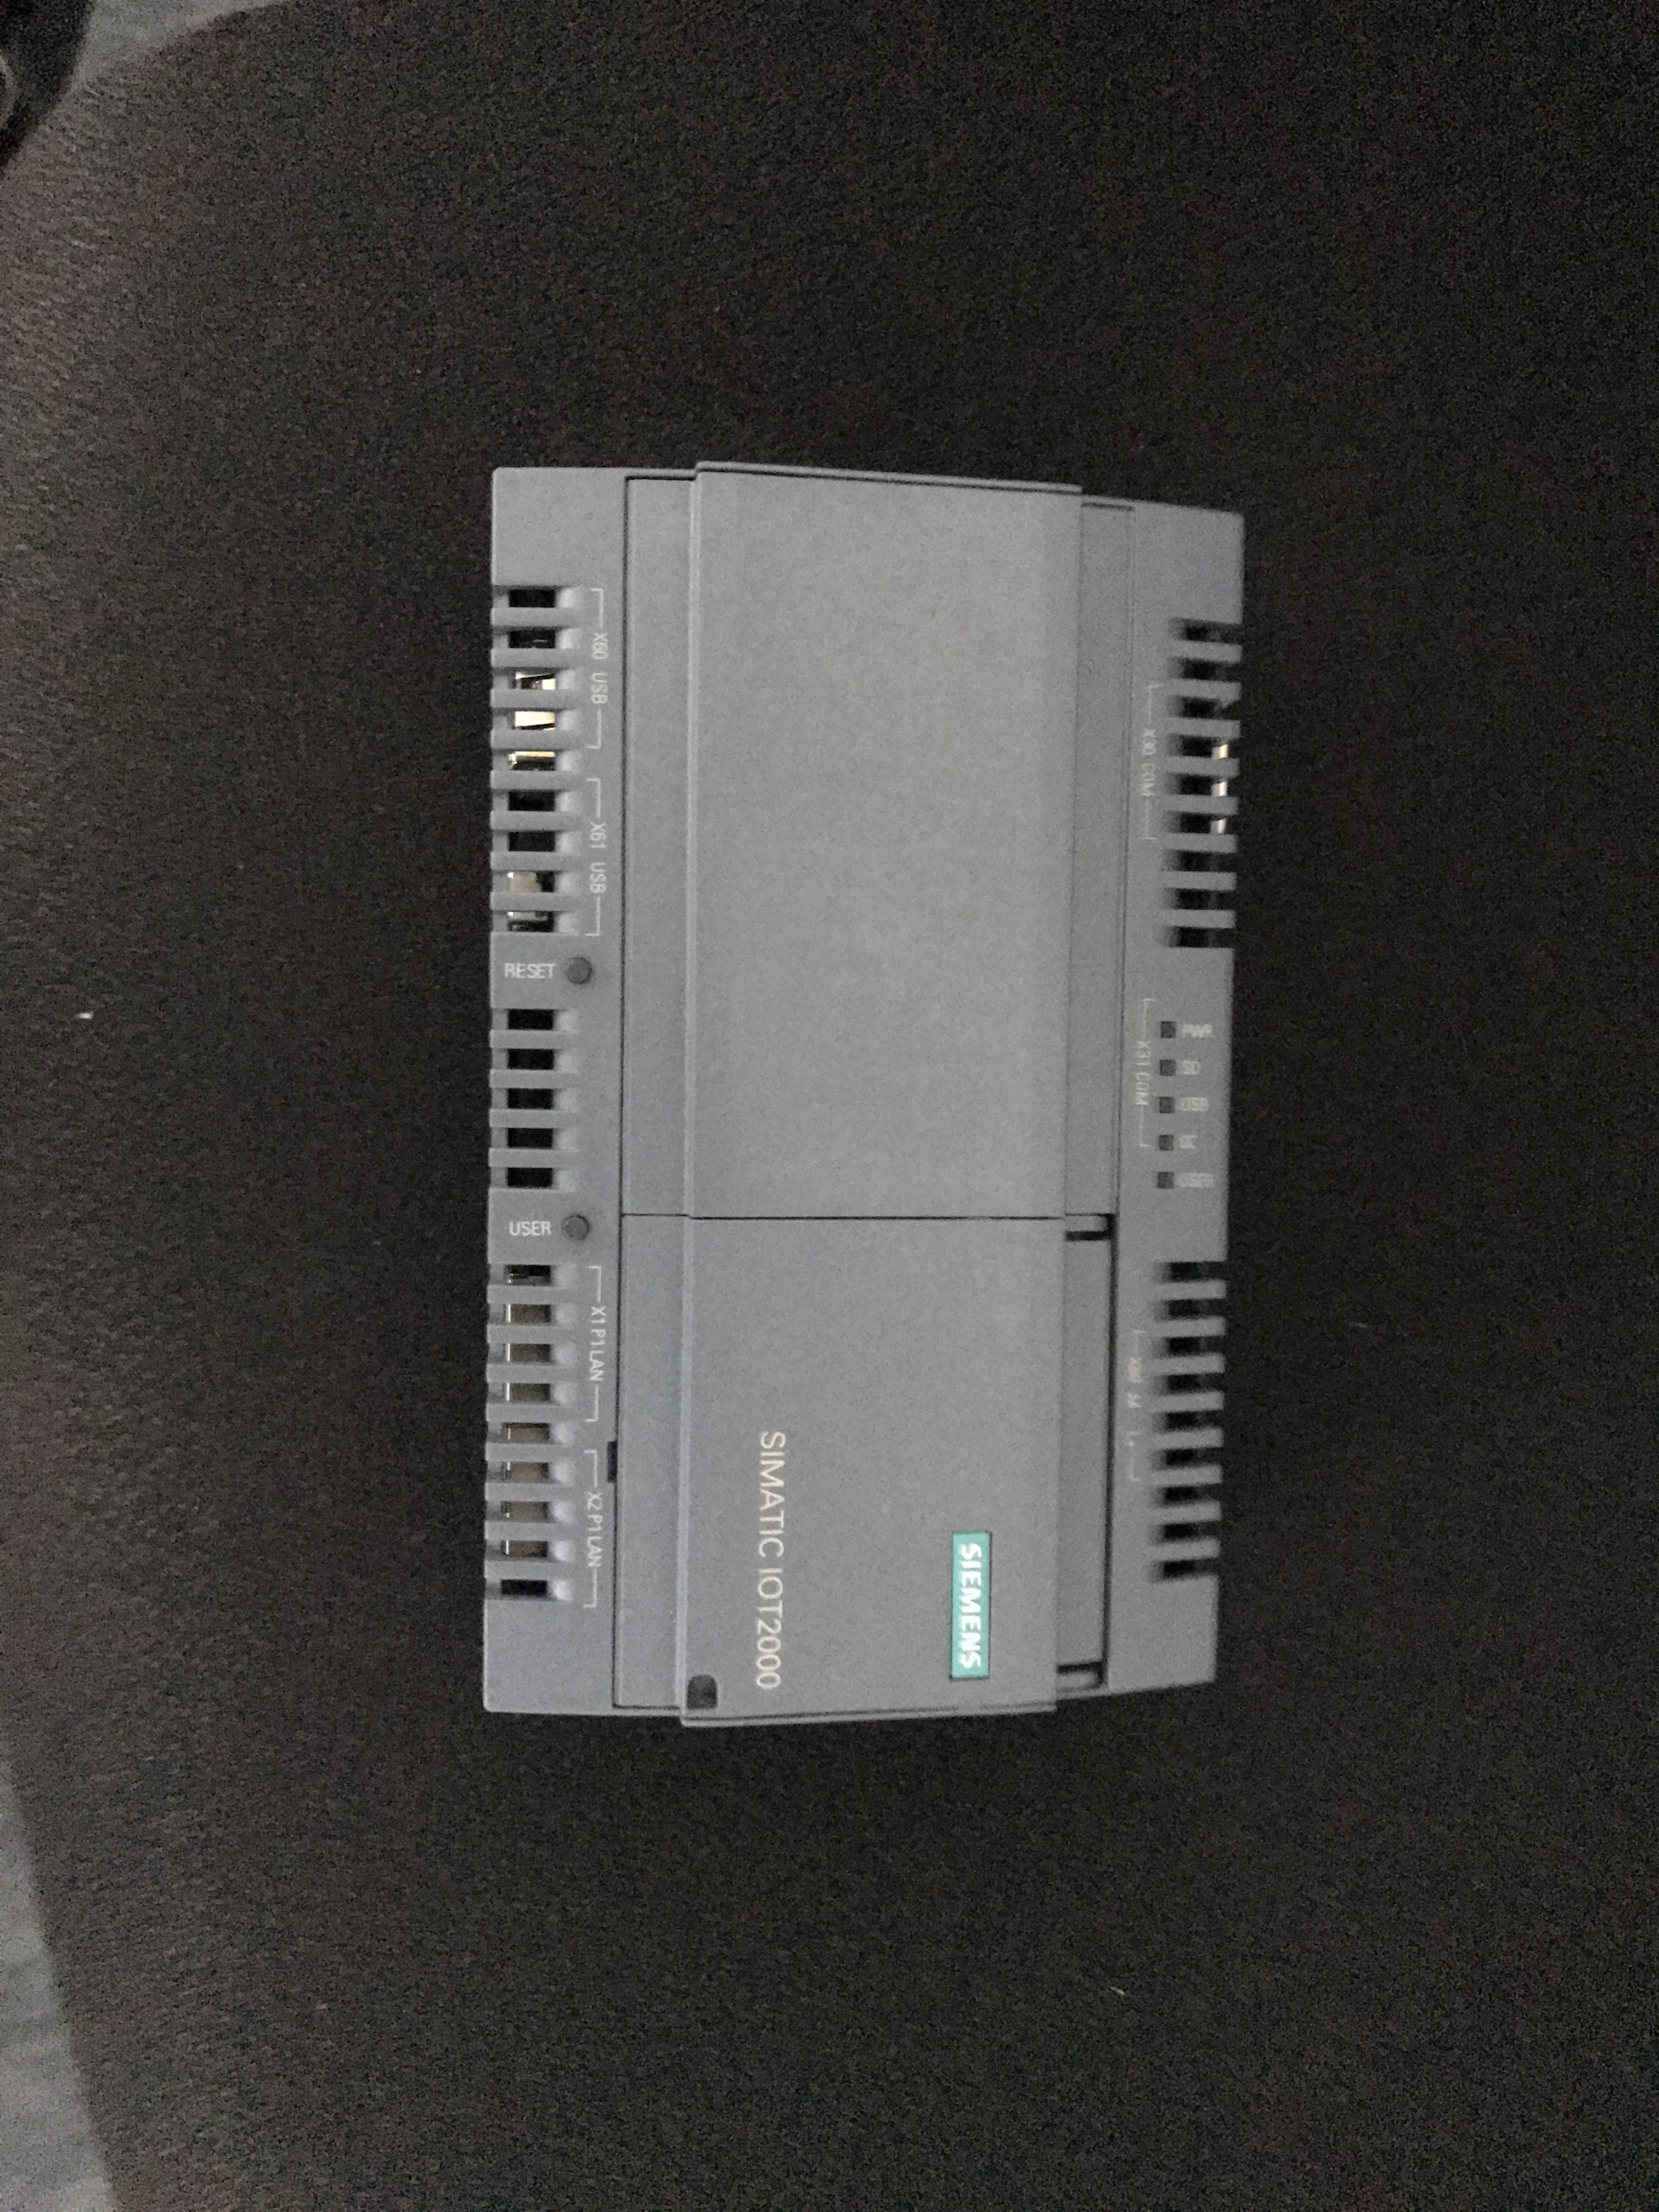device: (483, 465, 1246, 1730)
